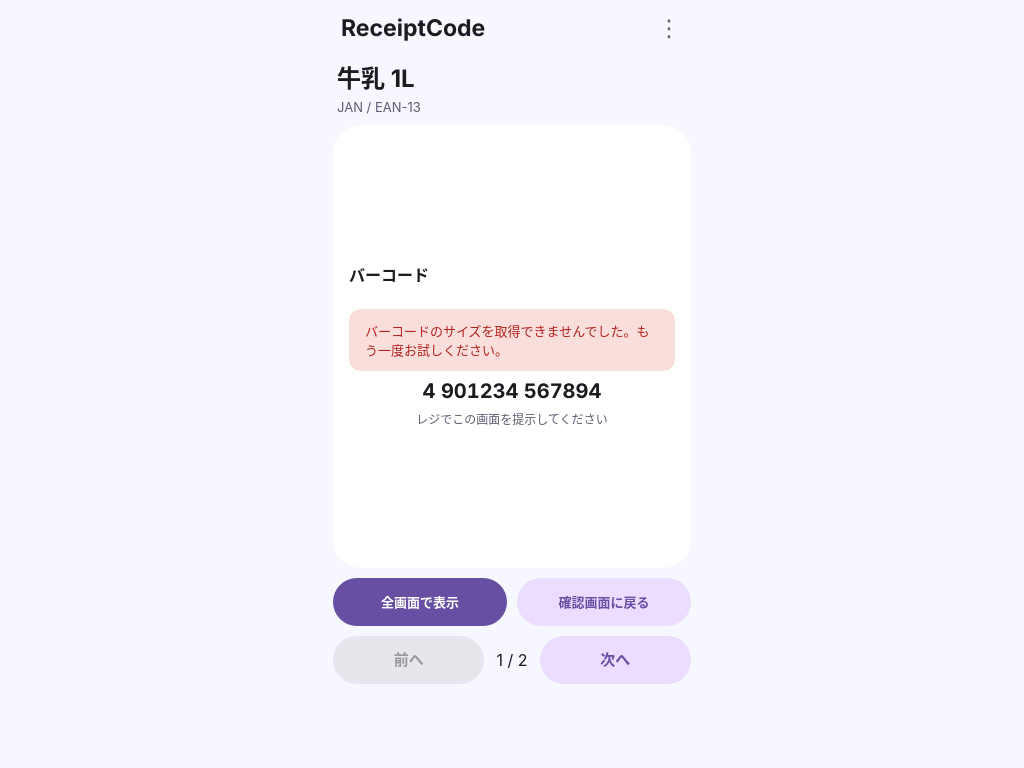
BarcodeViewer › 集中表示では案内を減らし、終了できる
Step 1. Click the button "全画面で表示" → (420, 602), box [333,578,507,626]
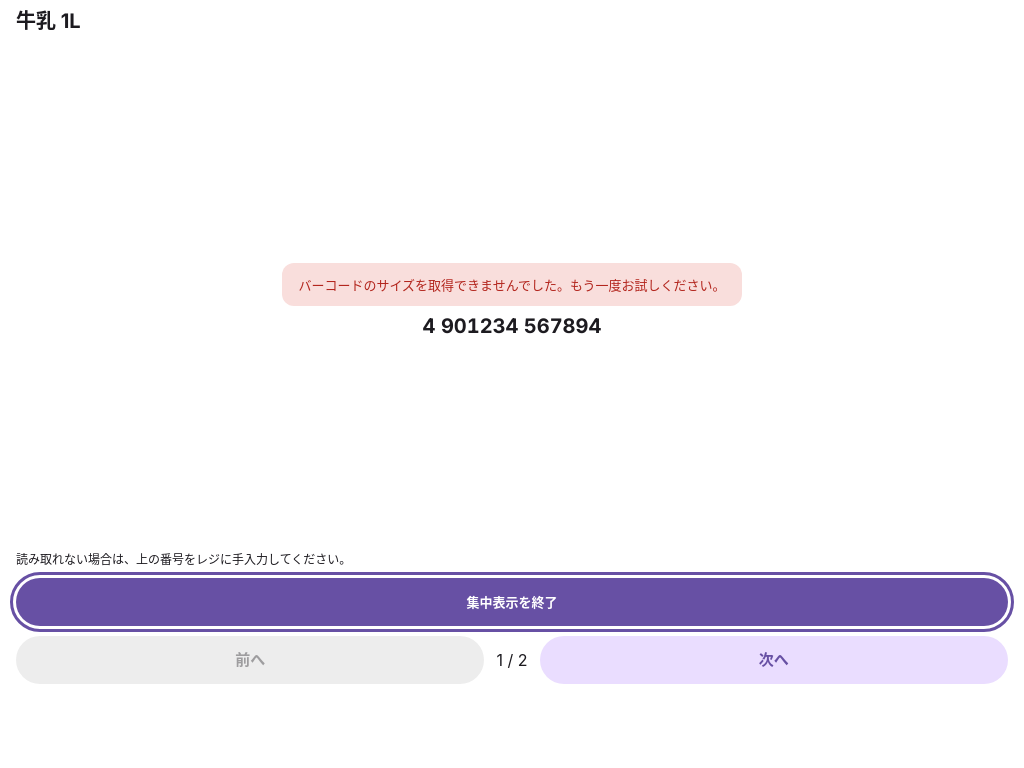
Expected: the text named "JAN 4901234567894" is shown, [423,314,601,339]
Result: the button "集中表示を終了" is shown at [16,578,1008,626]
